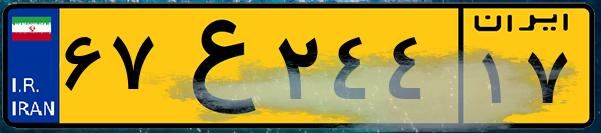1: (475, 38, 525, 113)
2: (270, 28, 330, 110)
4: (385, 28, 445, 110), (330, 28, 385, 110)
6: (57, 26, 110, 100)
7: (525, 38, 570, 115), (110, 28, 158, 98)
ع: (158, 12, 270, 120)
